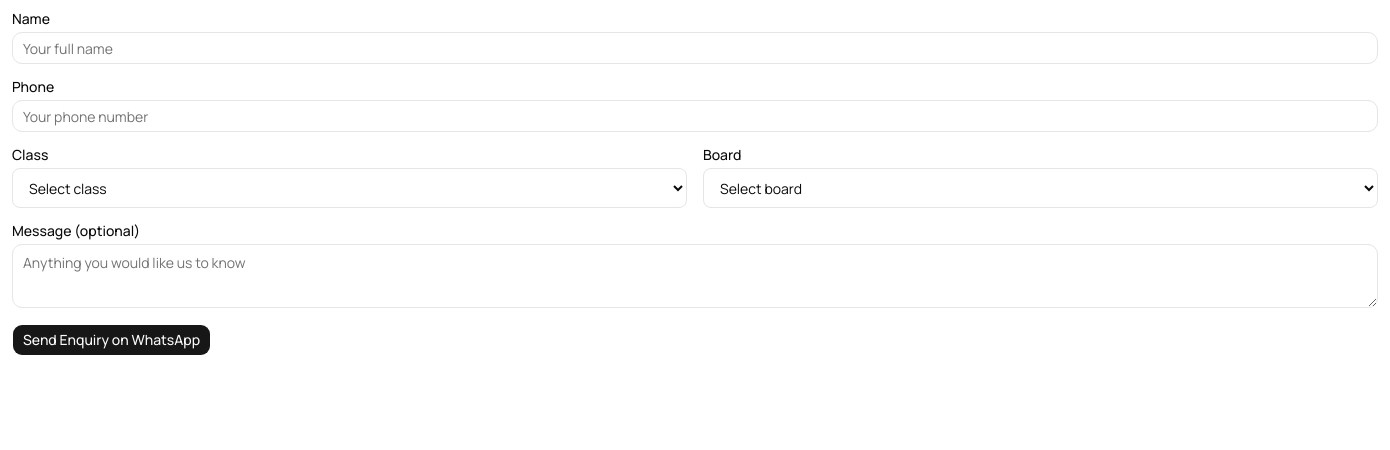
Scenario: AdmissionsForm › shows validation errors and does not navigate when submitted empty
The width and height of the screenshot is (1390, 450).
Click the button "Send Enquiry on WhatsApp": (112, 340) x1=12 y1=324 x2=211 y2=356
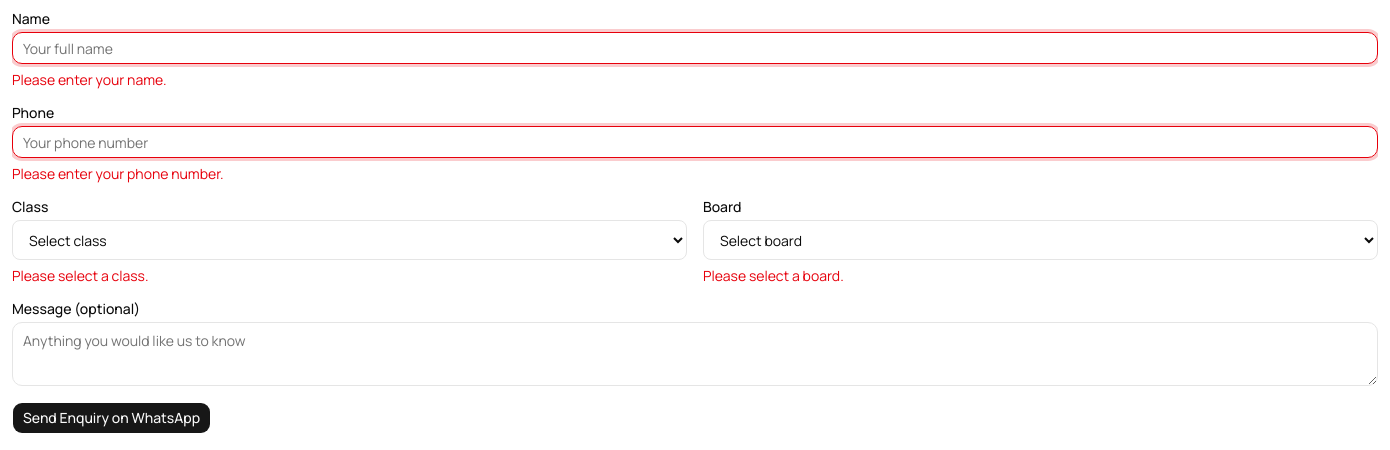
Result: the text "Please enter your name." is shown at x1=12 y1=70 x2=166 y2=89
Result: the text "Please enter your phone number." is shown at x1=12 y1=164 x2=224 y2=183
Result: the text "Please select a class." is shown at x1=12 y1=266 x2=148 y2=285
